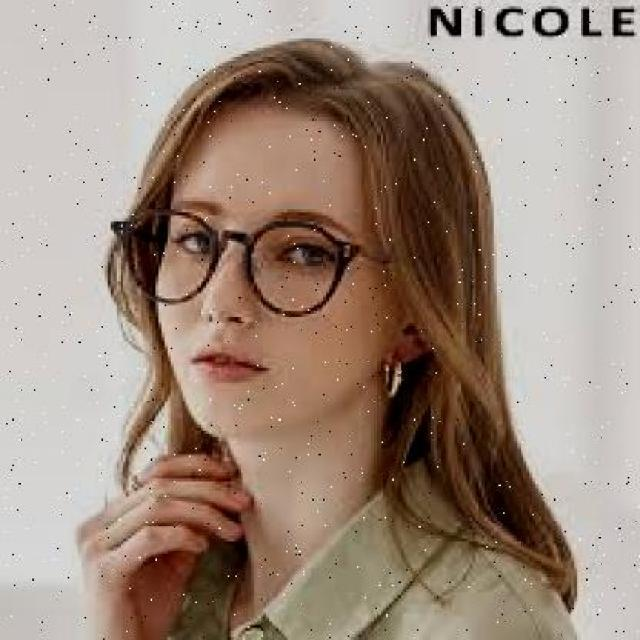glasses: (107, 182, 376, 330)
